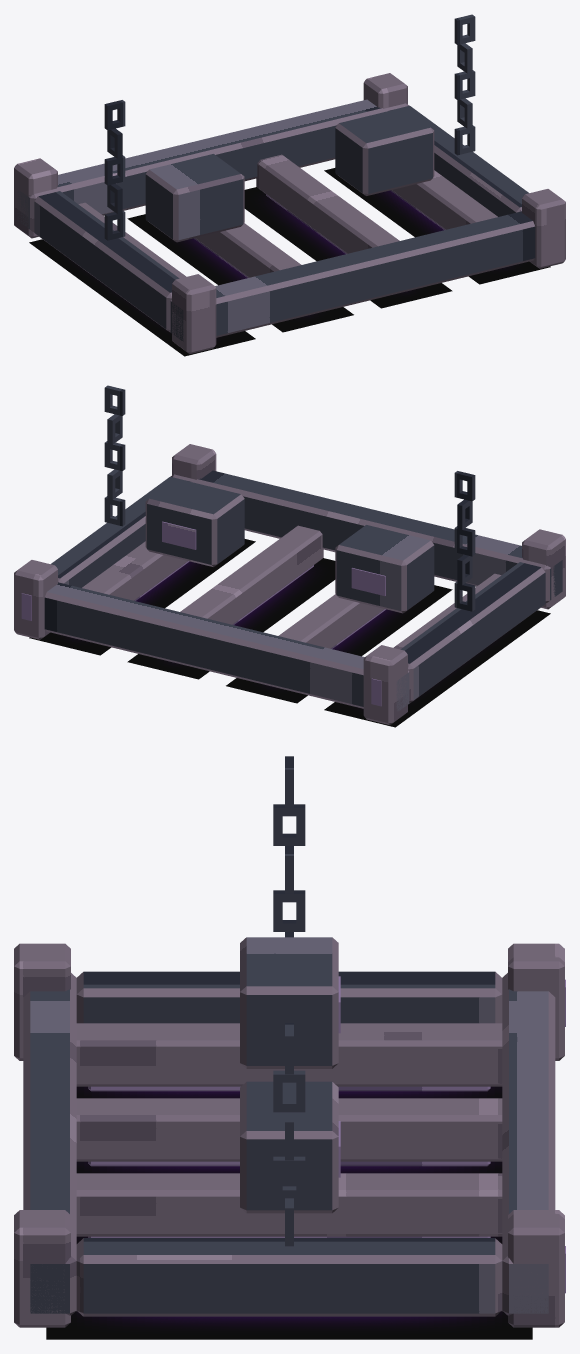
File: placed_uv_panel_4_lit.obj
3 renders of one model, top to bottom at view 1: azimuth 30°, elevation 25°; view 2: azimuth 150°, elevation 25°; view 3: azimuth 270°, elevation 25°, orthographic. The views are drawn at different scales.
Parts seen in each view (by area): view 1: model; view 2: model; view 3: model.
Boxes of the visible parts, x1,y1,x2,y2 form: model: (14, 14, 565, 356); model: (14, 385, 565, 727); model: (14, 756, 565, 1339).
Bounding box in the file's own units: 1.12 × 0.5512 × 0.9081.
